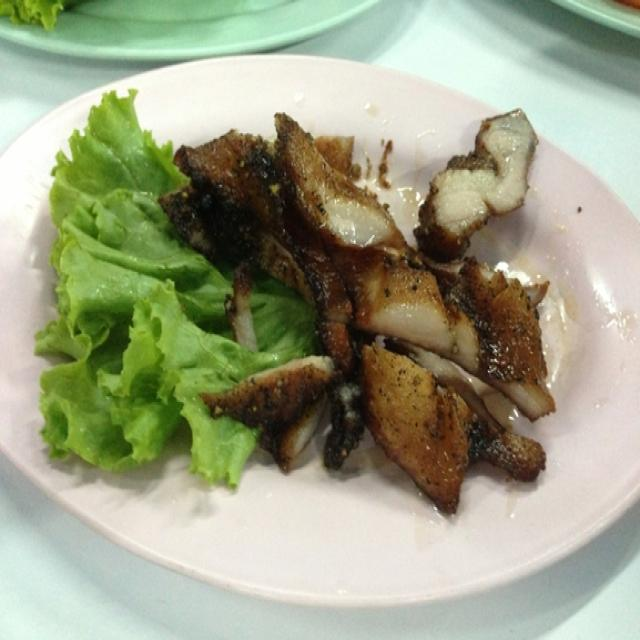猪肉菜式: (172, 94, 556, 514)
